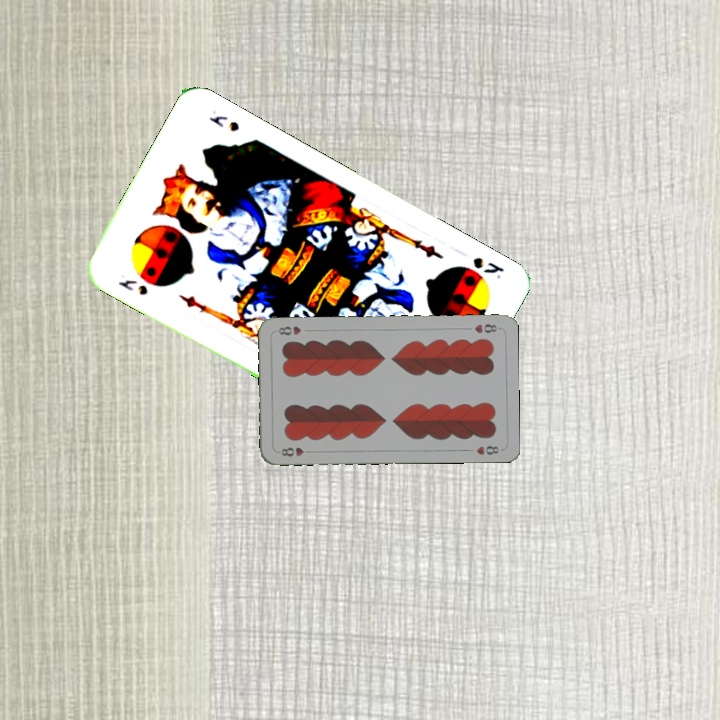H8: (277, 443, 315, 459), (470, 320, 502, 336)
SK: (468, 252, 507, 282), (114, 275, 151, 298)
